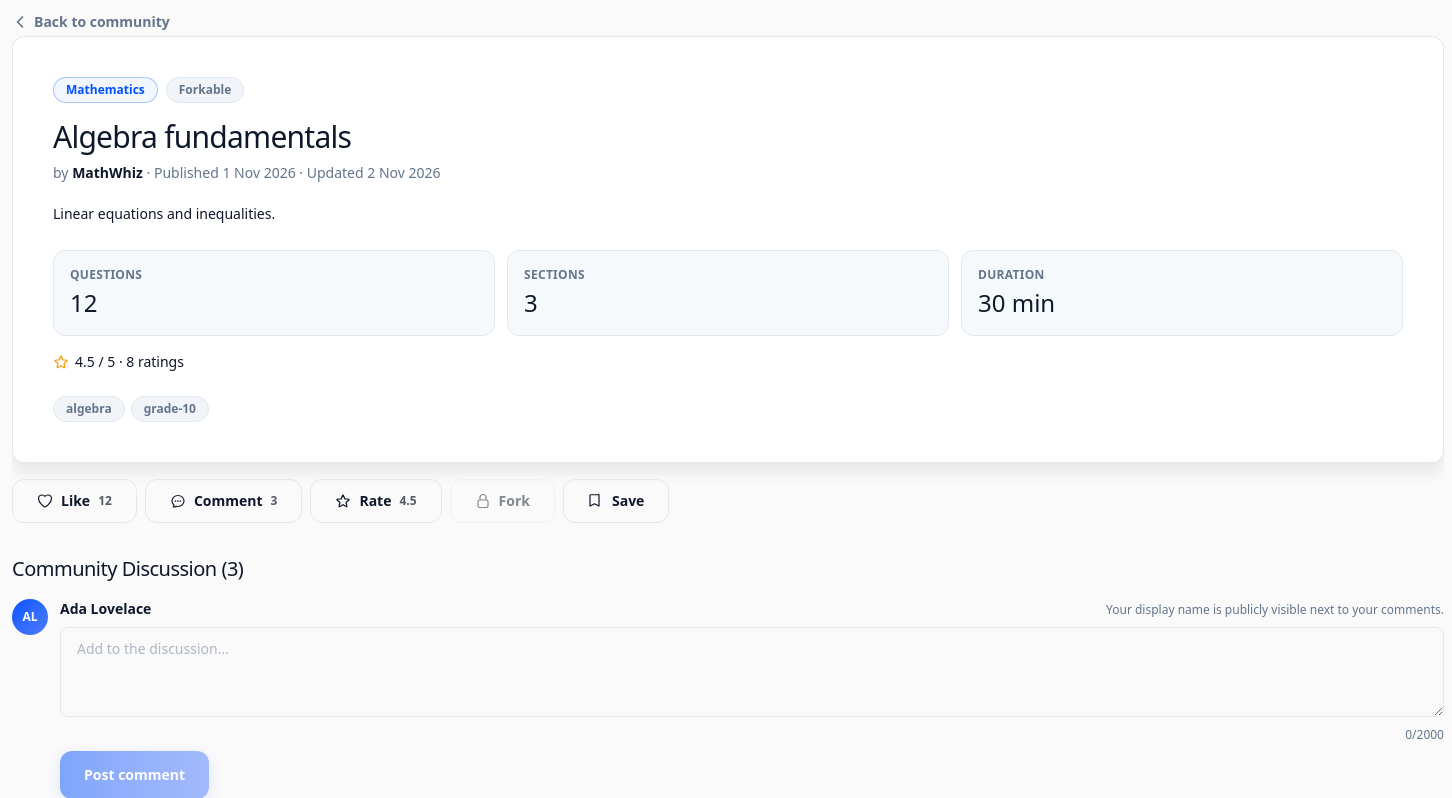
Test: community publication detail page — save/unsave toggle (#46) › surfaces the §9 rate-limit copy on 429
Click the button "Save".
click(616, 501)  # box left=563, top=479, right=669, bottom=523
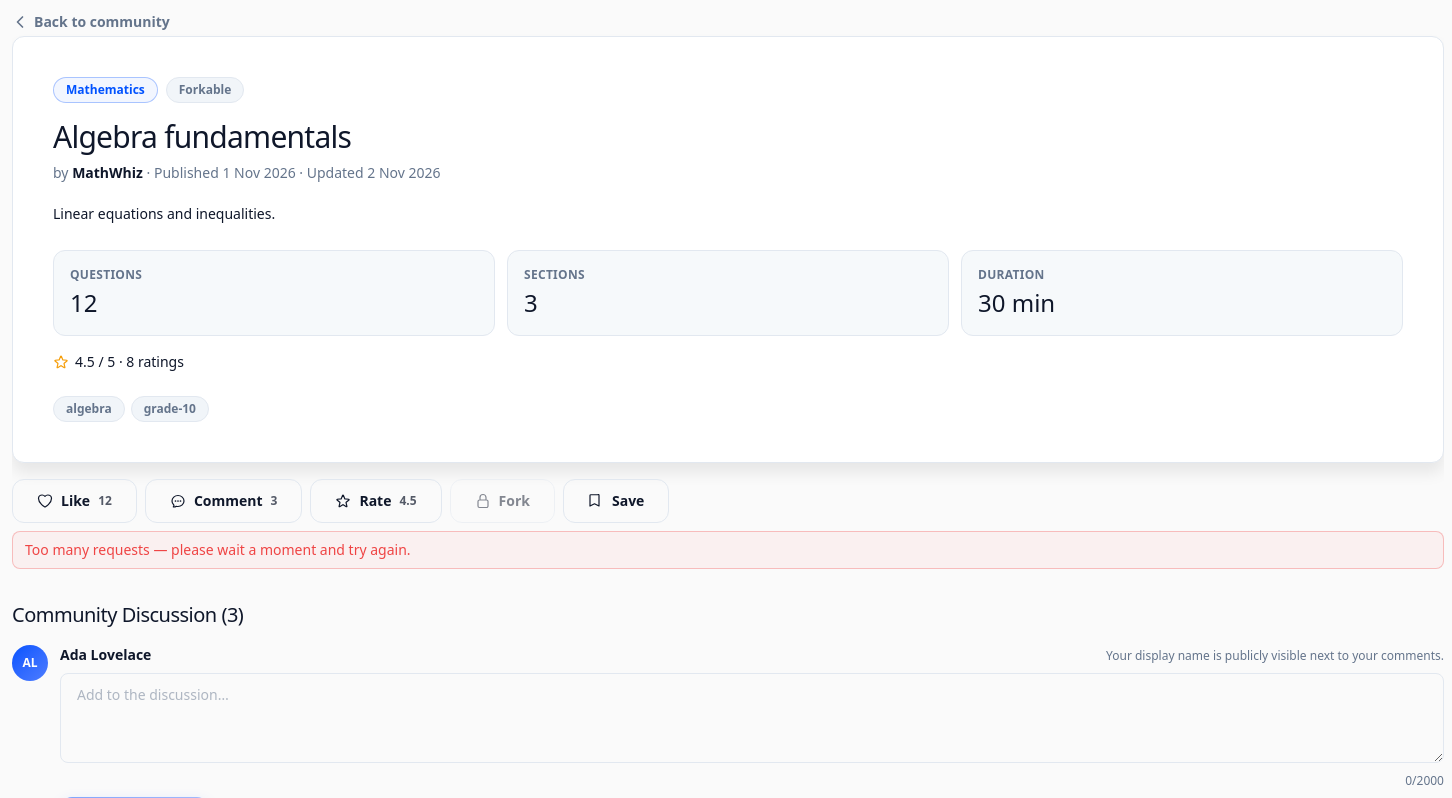
Now the message shows "Too many requests", box left=25, top=540, right=410, bottom=559
